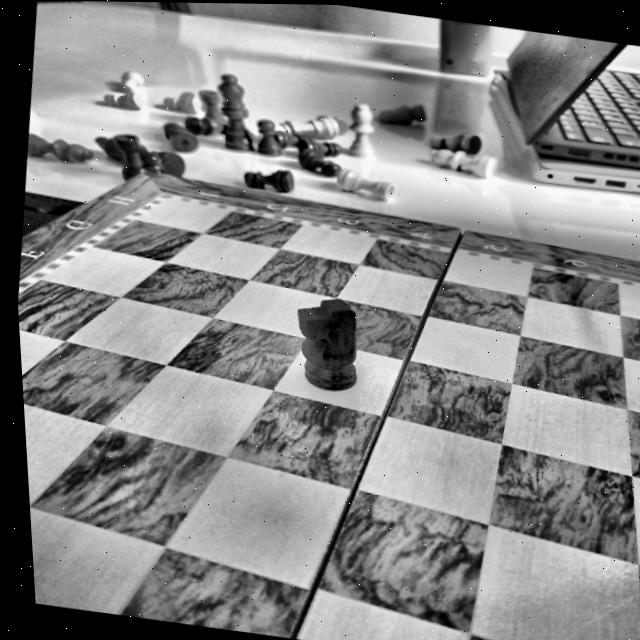black-knight: (284, 285, 370, 399)
